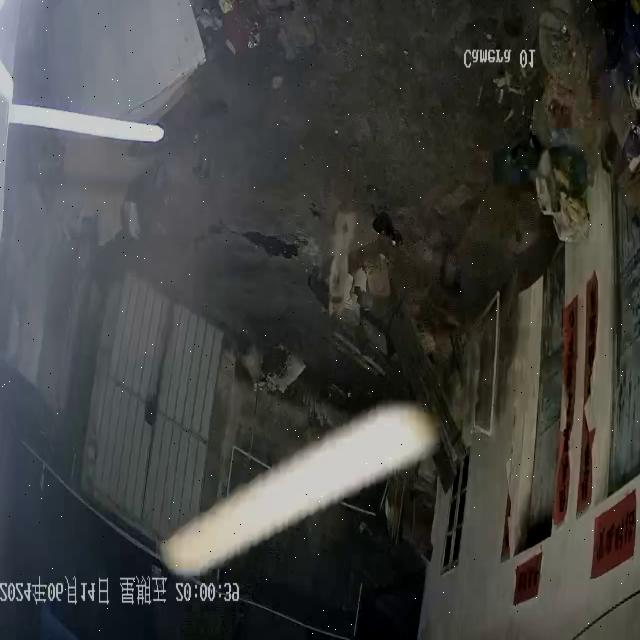dog: (328, 207, 358, 323)
